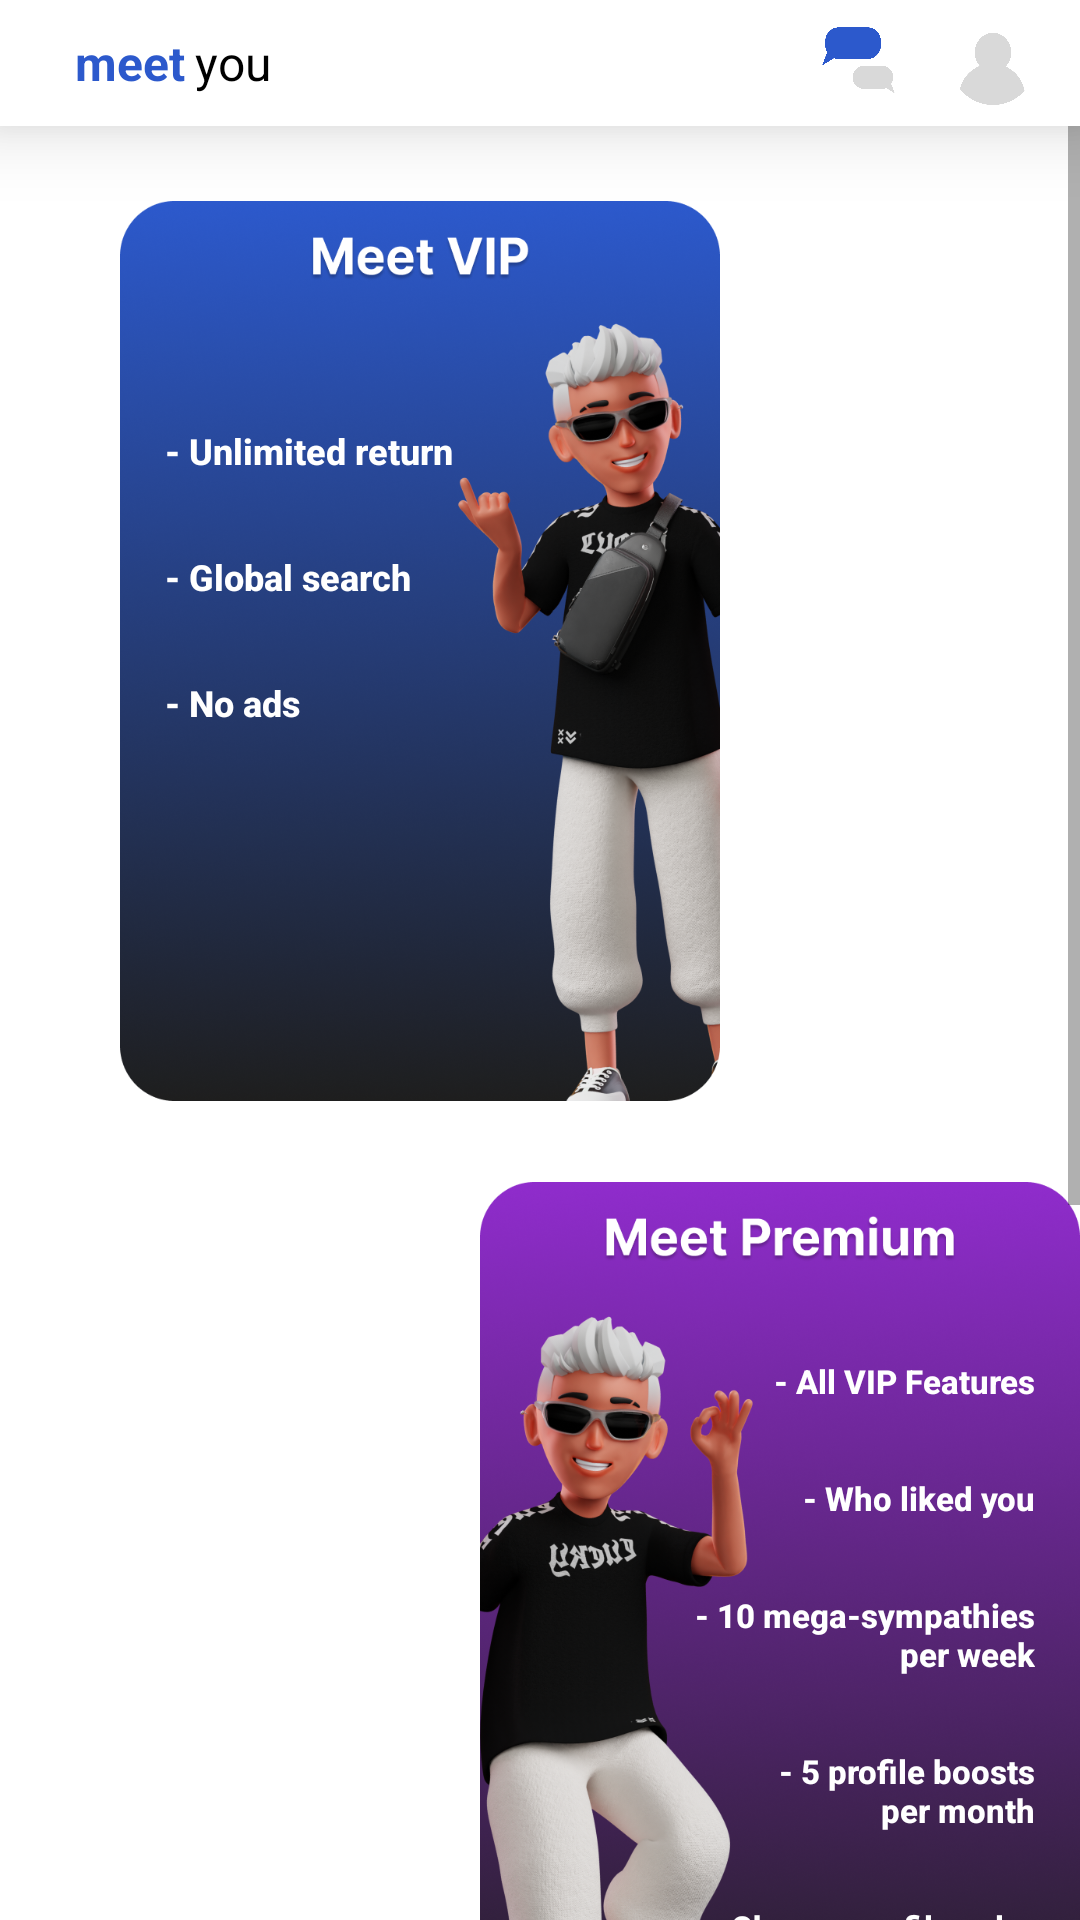

Named icons in this screenshot (1080px x 1920px) and their bounding boxes, (x1, y1, x2, y2):
messagerbutton: (822, 27, 894, 93)
profilebutton: (960, 33, 1024, 105)
